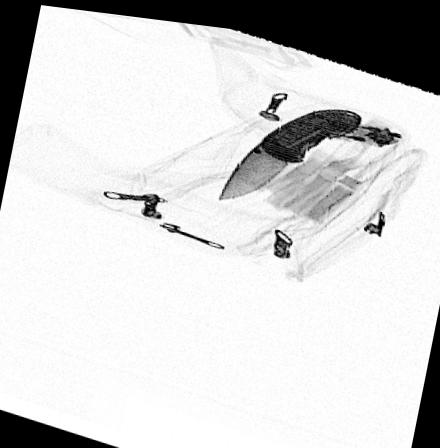Knife: (214, 97, 363, 194)
